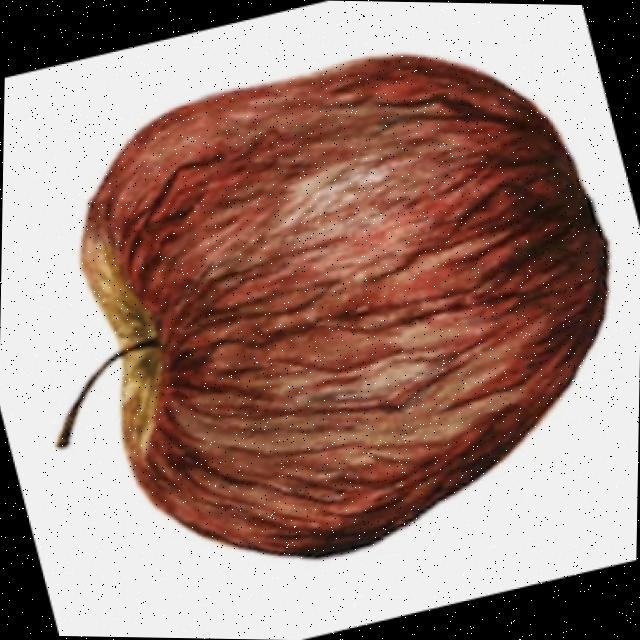Rotten: (58, 41, 615, 568)
